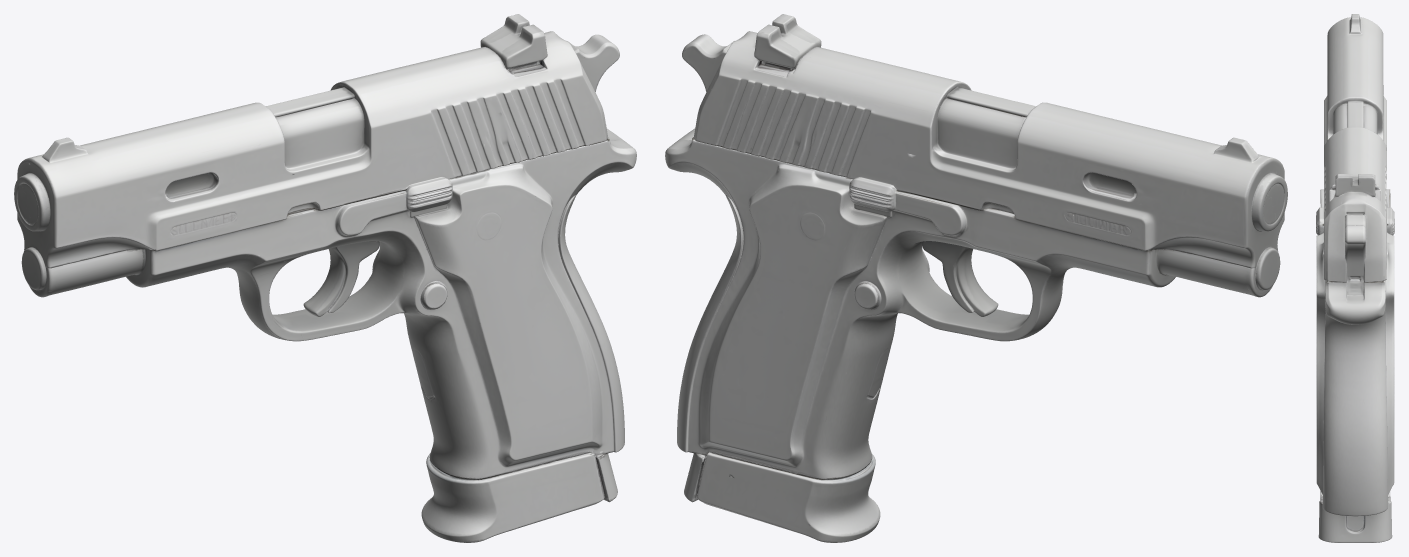
The model's file is science2.glb.
3 renders of one model, left to right at view 1: azimuth 30°, elevation 25°; view 2: azimuth 150°, elevation 25°; view 3: azimuth 270°, elevation 25°, orthographic. The views are drawn at different scales.
Parts seen in each view (by area): view 1: node_0; view 2: node_0; view 3: node_0.
Part boxes in pixels (x1,y1,x2,y2): node_0: (14,14,636,542); node_0: (665,14,1287,542); node_0: (1316,14,1394,542).
Size of the model in its own units: 0.9956 by 0.7744 by 0.1576.
Materials: 1 (1 with a texture image).
